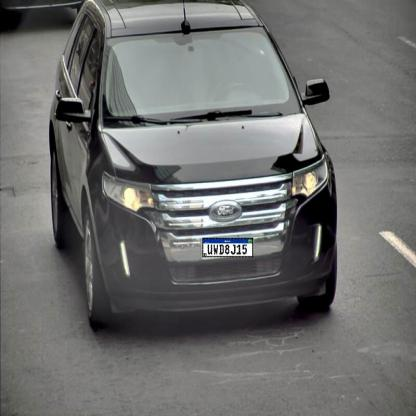PlacaM: (203, 238, 254, 257)
